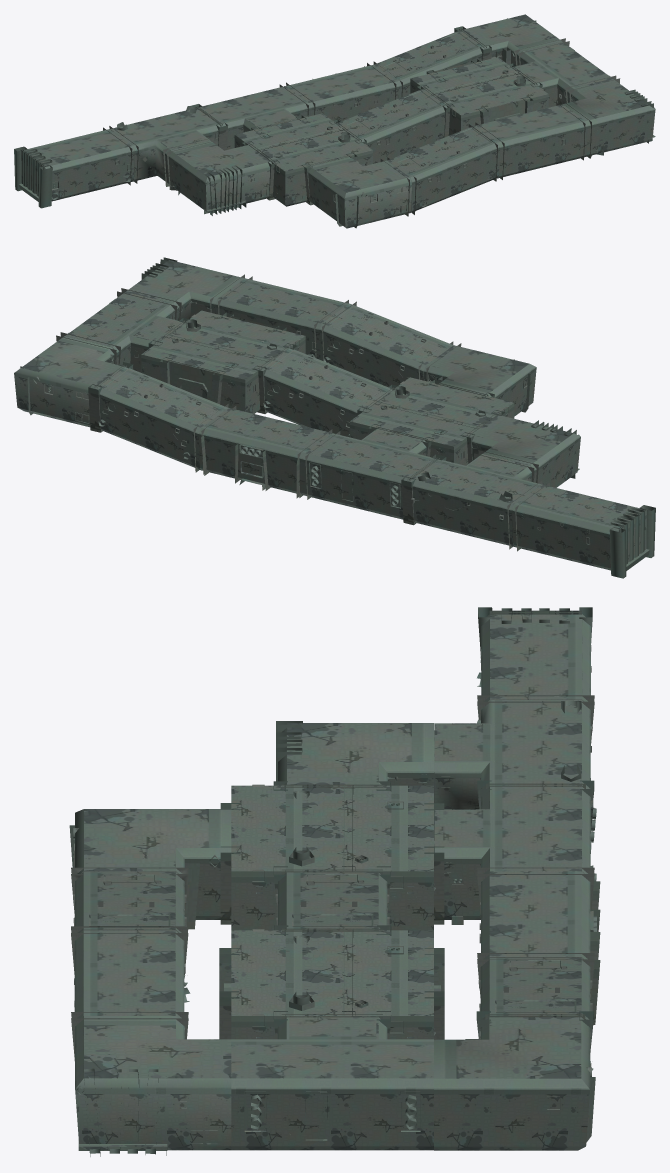
The model's file is Combined_Mesh_root_scene__3_4fde1142__zombies2_diffuse_08_b0bdab26_c1f257.obj.
The picture shows the model from 3 angles, top to bottom: view 1: azimuth 30°, elevation 25°; view 2: azimuth 150°, elevation 25°; view 3: azimuth 270°, elevation 25°; orthographic projection. The views are drawn at different scales.
Size of the model in its own units: 117 by 12.76 by 52.4.
230 materials, 230 textured.
